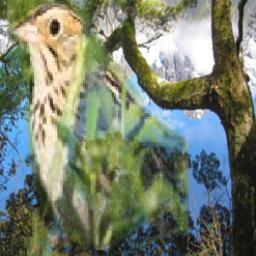Sparrow: (8, 0, 190, 256)
